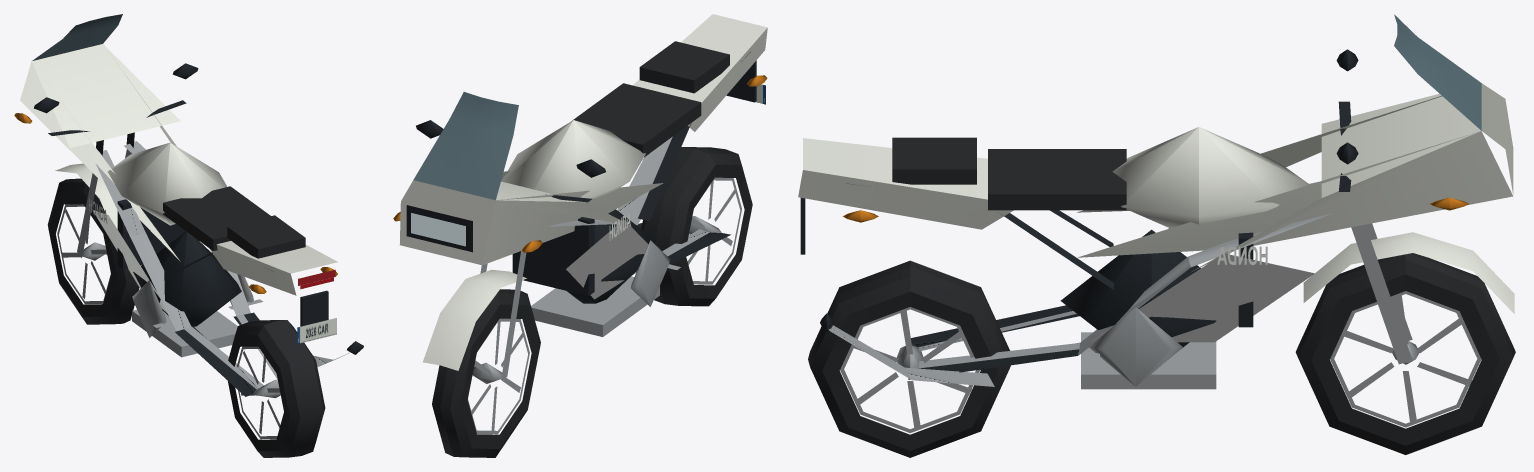
The model's file is Entrega_11c_LOD2.glb.
3 views of the same model, side by side, from view 1: azimuth 30°, elevation 25°; view 2: azimuth 150°, elevation 25°; view 3: azimuth 270°, elevation 25° (orthographic). The views are drawn at different scales.
Parts seen in each view (by area): view 1: Body (×2), Wheel_R, Wheel_F, Plate; view 2: Body (×2), Wheel_R, Wheel_F, Headlights; view 3: Body (×2), Wheel_F, Wheel_R.
Boxes of the visible parts, x1,y1,x2,y2 form: Body (×2): (20, 14, 363, 396); Wheel_R: (228, 320, 325, 457); Wheel_F: (47, 178, 139, 324); Plate: (297, 318, 336, 343); Body (×2): (399, 14, 767, 378); Wheel_R: (641, 147, 752, 306); Wheel_F: (432, 289, 540, 457); Headlights: (411, 213, 465, 246); Body (×2): (798, 14, 1514, 389); Wheel_F: (1295, 253, 1515, 454); Wheel_R: (808, 260, 1010, 457).
Size of the model in its own units: 0.83 by 1.48 by 2.3.
Materials: 11 (2 with a texture image).
